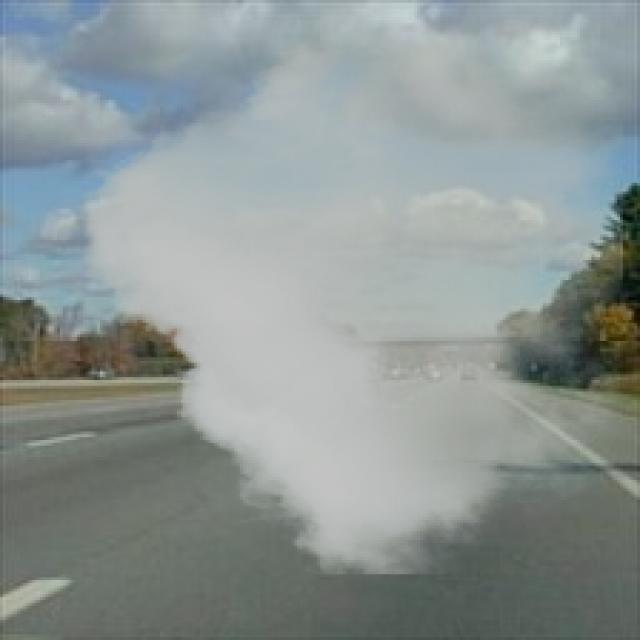smoke: (83, 34, 623, 574)
